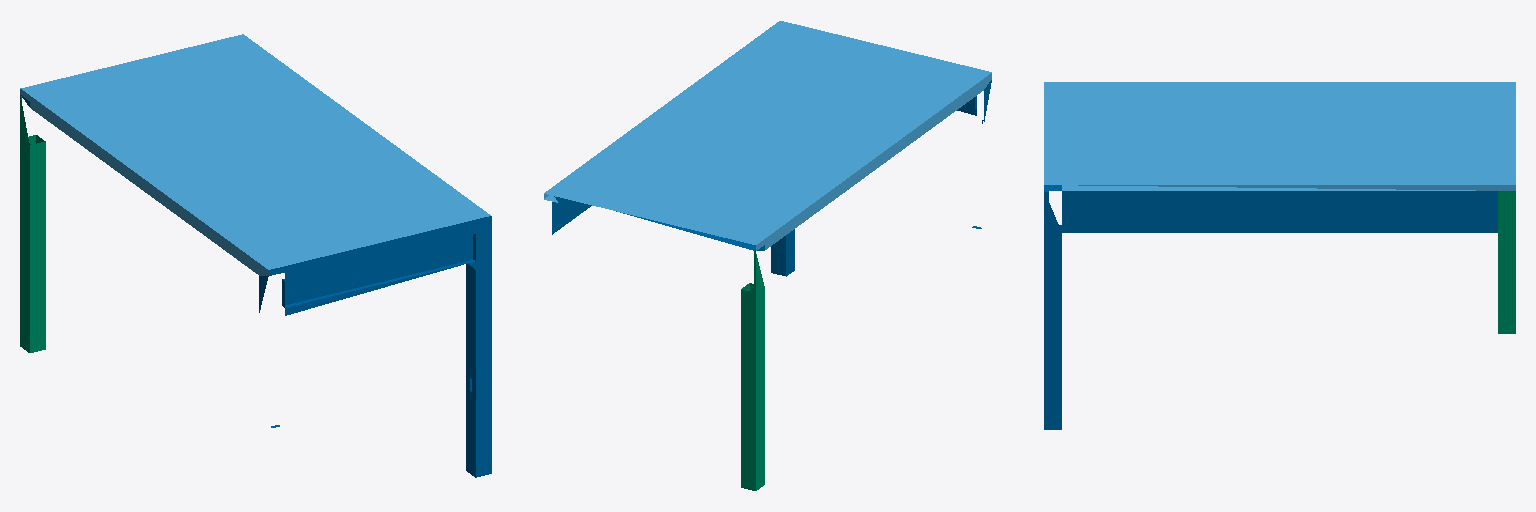
The robot description file, URDF, robot "partnet_2781a072e2645ccdedf1aa83ea962bc0":
<?xml version="1.0" ?>
<robot name="partnet_2781a072e2645ccdedf1aa83ea962bc0">
	<link name="base"/>
	<link name="link_0">
		<visual name="switch-18">
			<origin xyz="0.48746849999999997 0 0.0790005"/>
			<geometry>
				<mesh filename="faucet_objs/new-10.obj"/>
			</geometry>
		</visual>
		<visual name="switch-18">
			<origin xyz="0.48746849999999997 0 0.0790005"/>
			<geometry>
				<mesh filename="faucet_objs/original-7.obj"/>
			</geometry>
		</visual>
		<collision>
			<origin xyz="0.48746849999999997 0 0.0790005"/>
			<geometry>
				<mesh filename="faucet_objs/new-10.obj"/>
			</geometry>
		</collision>
		<collision>
			<origin xyz="0.48746849999999997 0 0.0790005"/>
			<geometry>
				<mesh filename="faucet_objs/original-7.obj"/>
			</geometry>
		</collision>
	</link>
	<joint name="joint_faucet_0" type="revolute">
		<origin xyz="-0.48746849999999997 0 -0.0790005"/>
		<axis xyz="0 1 0"/>
		<child link="link_0"/>
		<parent link="link_3"/>
		<limit lower="0.0" upper="1.5707963267948966"/>
	</joint>
	<link name="link_1">
		<visual name="switch-19">
			<origin xyz="-0.4956825 0 0.07900049999999996"/>
			<geometry>
				<mesh filename="faucet_objs/new-6.obj"/>
			</geometry>
		</visual>
		<visual name="switch-19">
			<origin xyz="-0.4956825 0 0.07900049999999996"/>
			<geometry>
				<mesh filename="faucet_objs/original-5.obj"/>
			</geometry>
		</visual>
		<collision>
			<origin xyz="-0.4956825 0 0.07900049999999996"/>
			<geometry>
				<mesh filename="faucet_objs/new-6.obj"/>
			</geometry>
		</collision>
		<collision>
			<origin xyz="-0.4956825 0 0.07900049999999996"/>
			<geometry>
				<mesh filename="faucet_objs/original-5.obj"/>
			</geometry>
		</collision>
	</link>
	<joint name="joint_faucet_1" type="revolute">
		<origin xyz="0.4956825 0 -0.07900049999999996"/>
		<axis xyz="0 -1 0"/>
		<child link="link_1"/>
		<parent link="link_3"/>
		<limit lower="-0.0" upper="1.5707963267948966"/>
	</joint>
	<link name="link_2">
		<visual name="tube-24">
			<origin xyz="-0.004107500000000028 0 0.0790015"/>
			<geometry>
				<mesh filename="faucet_objs/original-3.obj"/>
			</geometry>
		</visual>
		<visual name="head-25">
			<origin xyz="-0.004107500000000028 0 0.0790015"/>
			<geometry>
				<mesh filename="faucet_objs/new-0.obj"/>
			</geometry>
		</visual>
		<visual name="mouth-26">
			<origin xyz="-0.004107500000000028 0 0.0790015"/>
			<geometry>
				<mesh filename="faucet_objs/new-1.obj"/>
			</geometry>
		</visual>
		<collision>
			<origin xyz="-0.004107500000000028 0 0.0790015"/>
			<geometry>
				<mesh filename="faucet_objs/original-3.obj"/>
			</geometry>
		</collision>
		<collision>
			<origin xyz="-0.004107500000000028 0 0.0790015"/>
			<geometry>
				<mesh filename="faucet_objs/new-0.obj"/>
			</geometry>
		</collision>
		<collision>
			<origin xyz="-0.004107500000000028 0 0.0790015"/>
			<geometry>
				<mesh filename="faucet_objs/new-1.obj"/>
			</geometry>
		</collision>
	</link>
	<joint name="joint_faucet_2" type="continuous">
		<origin xyz="0.004107500000000028 0 -0.0790015"/>
		<axis xyz="0 1 0"/>
		<child link="link_2"/>
		<parent link="link_3"/>
	</joint>
	<link name="link_3">
		<visual name="surface_base-31">
			<origin xyz="0 0 0"/>
			<geometry>
				<mesh filename="faucet_objs/new-8.obj"/>
			</geometry>
		</visual>
		<visual name="vertical_support-32">
			<origin xyz="0 0 0"/>
			<geometry>
				<mesh filename="faucet_objs/new-7.obj"/>
			</geometry>
		</visual>
		<visual name="surface_base-29">
			<origin xyz="0 0 0"/>
			<geometry>
				<mesh filename="faucet_objs/new-12.obj"/>
			</geometry>
		</visual>
		<visual name="vertical_support-30">
			<origin xyz="0 0 0"/>
			<geometry>
				<mesh filename="faucet_objs/new-11.obj"/>
			</geometry>
		</visual>
		<visual name="surface_base-27">
			<origin xyz="0 0 0"/>
			<geometry>
				<mesh filename="faucet_objs/new-4.obj"/>
			</geometry>
		</visual>
		<visual name="vertical_support-28">
			<origin xyz="0 0 0"/>
			<geometry>
				<mesh filename="faucet_objs/new-14.obj"/>
			</geometry>
		</visual>
		<collision>
			<origin xyz="0 0 0"/>
			<geometry>
				<mesh filename="faucet_objs/new-8.obj"/>
			</geometry>
		</collision>
		<collision>
			<origin xyz="0 0 0"/>
			<geometry>
				<mesh filename="faucet_objs/new-7.obj"/>
			</geometry>
		</collision>
		<collision>
			<origin xyz="0 0 0"/>
			<geometry>
				<mesh filename="faucet_objs/new-12.obj"/>
			</geometry>
		</collision>
		<collision>
			<origin xyz="0 0 0"/>
			<geometry>
				<mesh filename="faucet_objs/new-11.obj"/>
			</geometry>
		</collision>
		<collision>
			<origin xyz="0 0 0"/>
			<geometry>
				<mesh filename="faucet_objs/new-4.obj"/>
			</geometry>
		</collision>
		<collision>
			<origin xyz="0 0 0"/>
			<geometry>
				<mesh filename="faucet_objs/new-14.obj"/>
			</geometry>
		</collision>
	</link>
	<joint name="joint_faucet_3" type="fixed">
		<origin rpy="1.570796326794897 0 -1.570796326794897" xyz="0 0 0"/>
		<child link="link_3"/>
		<parent link="base"/>
	</joint>
</robot>

--- Render facts (derived) ---
Views: 3 orthographic renders of the robot side by side, from view 1: azimuth 30°, elevation 25°; view 2: azimuth 150°, elevation 25°; view 3: azimuth 270°, elevation 25°.
Robot: partnet_2781a072e2645ccdedf1aa83ea962bc0 — 5 links, 4 joints (2 revolute, 1 continuous, 1 fixed); root link base; default pose: every joint at zero.
Links seen in each view (by area): view 1: link_0, link_3, link_1; view 2: link_0, link_1, link_3; view 3: link_0, link_3, link_1.
Boxes of the visible links, left/top/right/bottom form: link_0: left=20, top=34, right=490, bottom=275; link_3: left=21, top=95, right=491, bottom=477; link_1: left=20, top=95, right=45, bottom=352; link_0: left=544, top=21, right=991, bottom=250; link_1: left=741, top=251, right=764, bottom=490; link_3: left=552, top=80, right=991, bottom=276; link_0: left=1044, top=82, right=1515, bottom=190; link_3: left=1044, top=185, right=1497, bottom=429; link_1: left=1498, top=191, right=1515, bottom=333.
Size in the robot's own frame: 0.7425 by 1.43 by 0.8221 metres.
7 mesh visuals loaded from 13 distinct referenced files (7 OBJ); not drawn: 6 (reference not matched to a file when rendering).